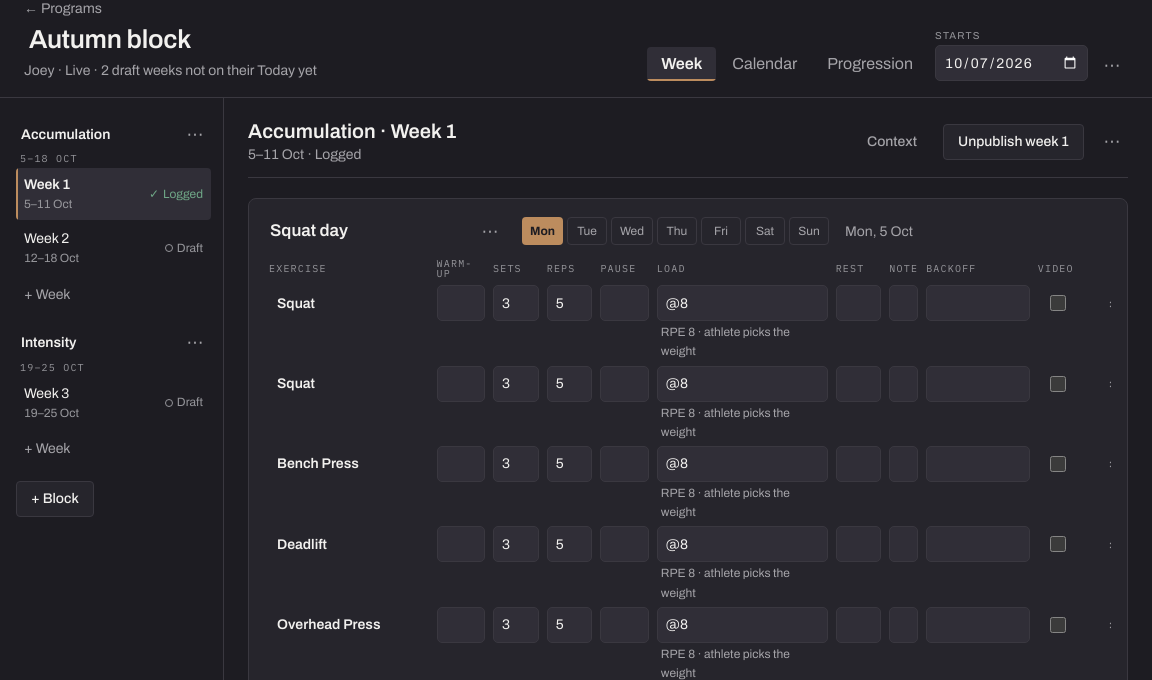
it: the Week | Calendar toggle › switches views and keeps the choice in ?view=, leaving the rest of the URL alone
The width and height of the screenshot is (1152, 680).
Click the tab "Calendar" at (765, 64), box [718,47,811,81]
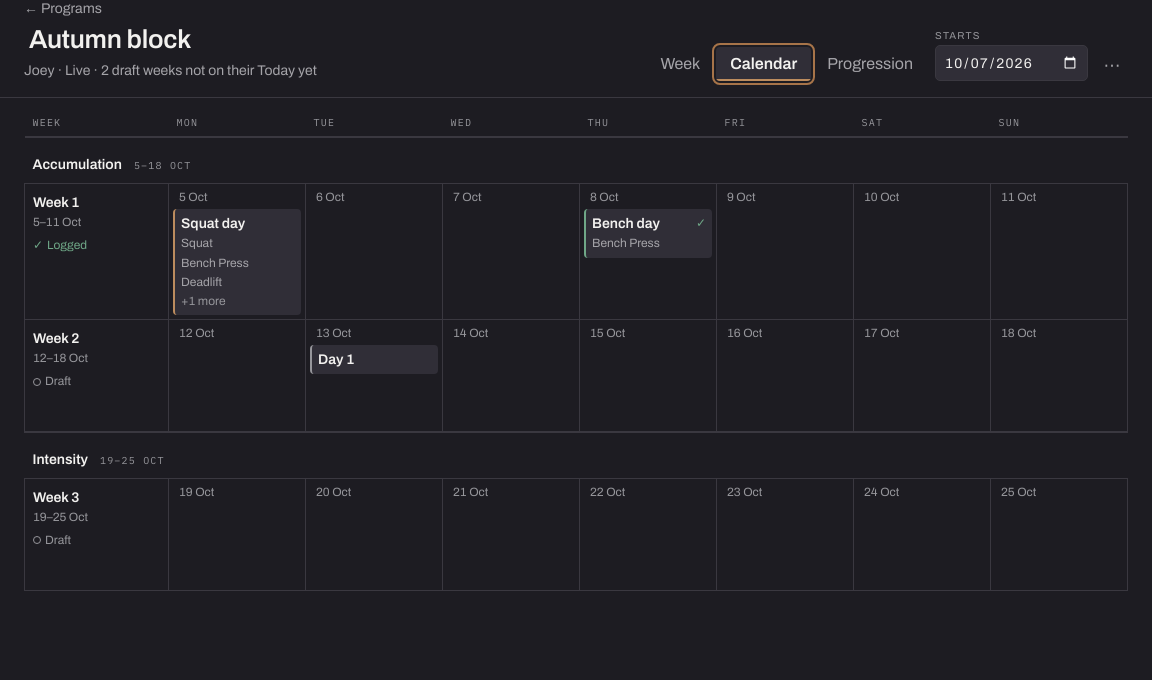
Result: the table named "Program calendar" is shown
Click the tab "Week" at (680, 64), box [646,47,714,81]
(page scrolled)
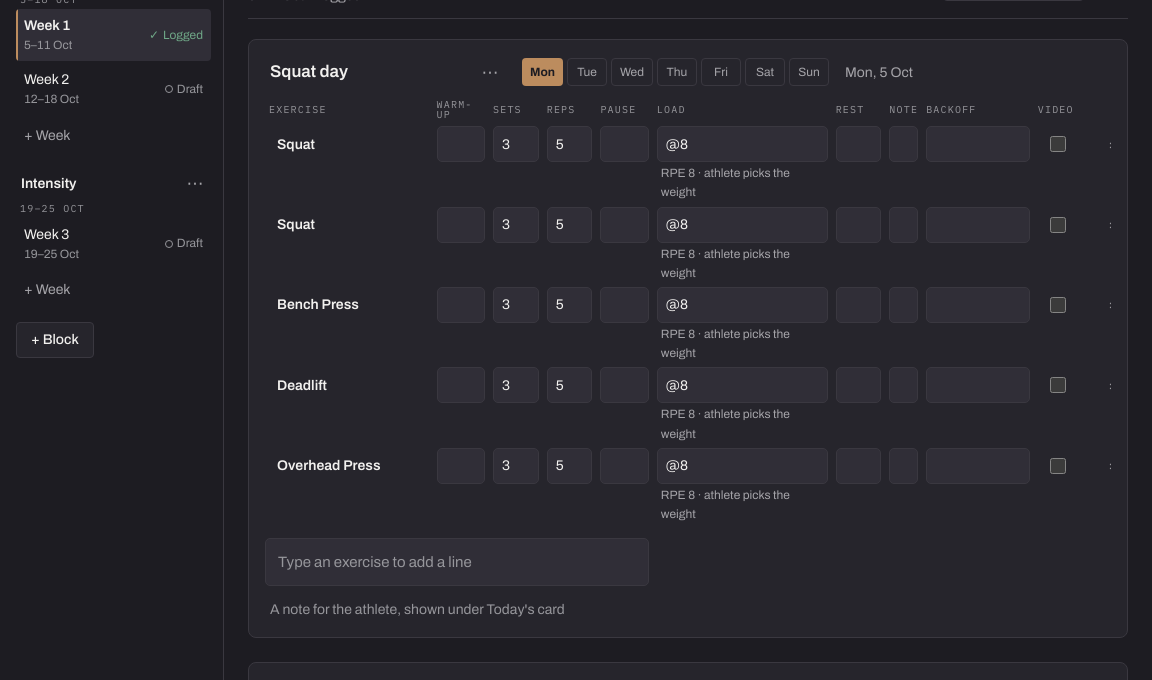
Result: the element named "Squat day" is shown
